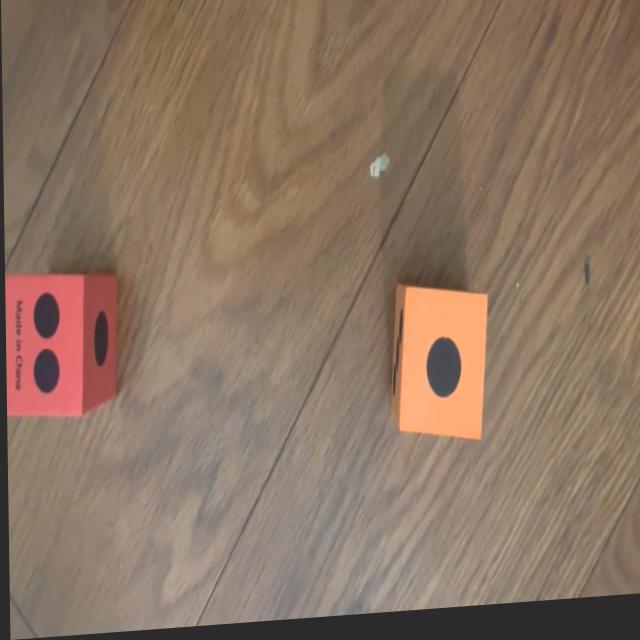cube: (3, 266, 120, 420)
